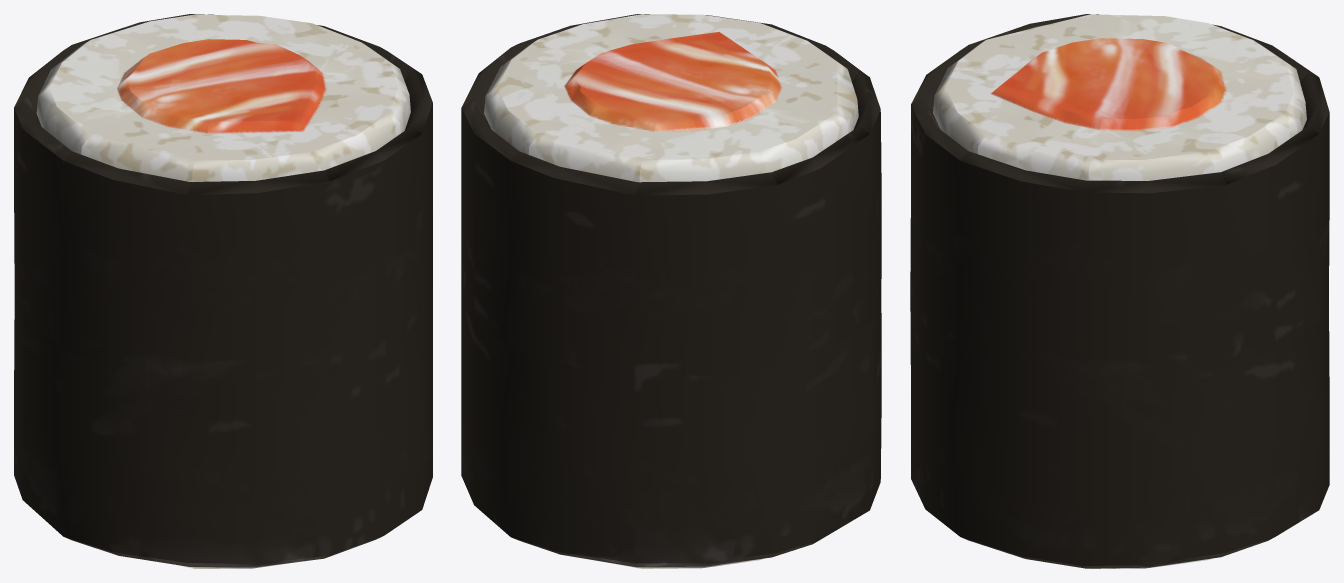
File: 57_Ball_Sushi.fbx
The picture shows the model from 3 angles, left to right: view 1: azimuth 30°, elevation 25°; view 2: azimuth 150°, elevation 25°; view 3: azimuth 270°, elevation 25°; orthographic projection.
Visible parts, largest first — view 1: Ball_Shushi; view 2: Ball_Shushi; view 3: Ball_Shushi.
Part boxes in pixels (left/top/right/bottom): Ball_Shushi: left=14, top=14, right=432, bottom=568; Ball_Shushi: left=461, top=14, right=881, bottom=568; Ball_Shushi: left=910, top=14, right=1329, bottom=568.
Size of the model in its own units: 0.3462 by 0.3902 by 0.3494.
